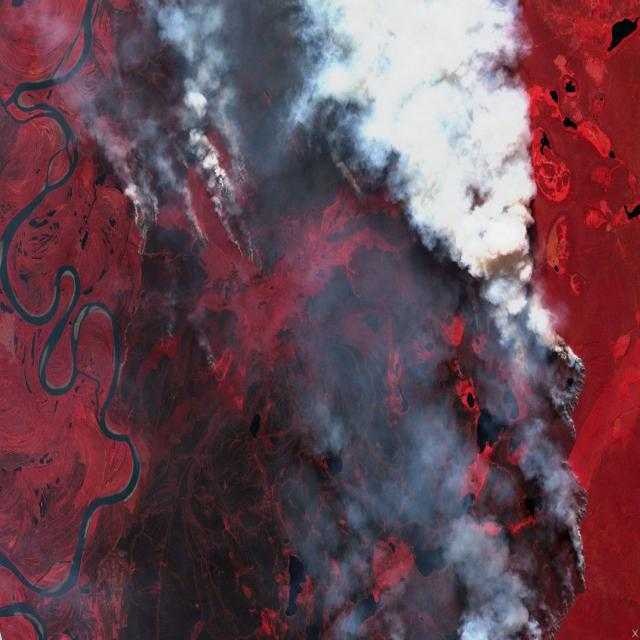fire: (479, 300, 598, 640), (113, 118, 284, 284), (375, 0, 468, 72), (330, 150, 373, 217)
